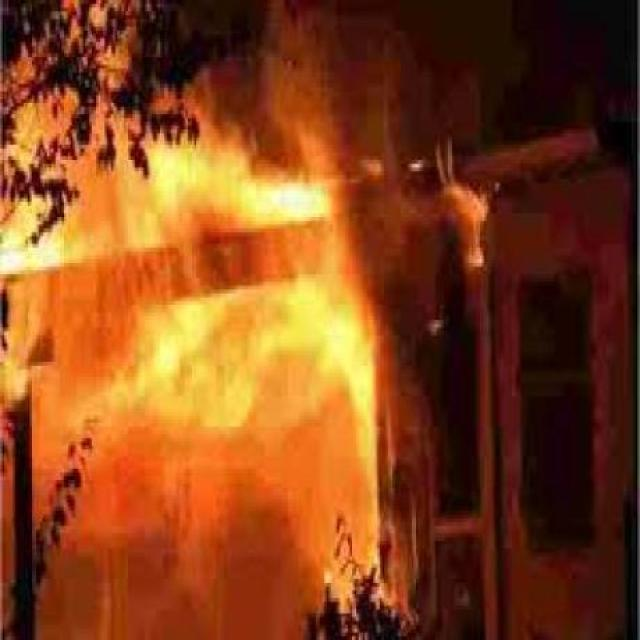Fire: (4, 1, 381, 602)
Smoke: (267, 3, 560, 166), (392, 175, 494, 361)
